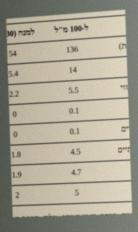carbs: (68, 105, 80, 117)
energy: (65, 44, 79, 56)
fat: (67, 64, 78, 77)
protein: (70, 167, 83, 179)
